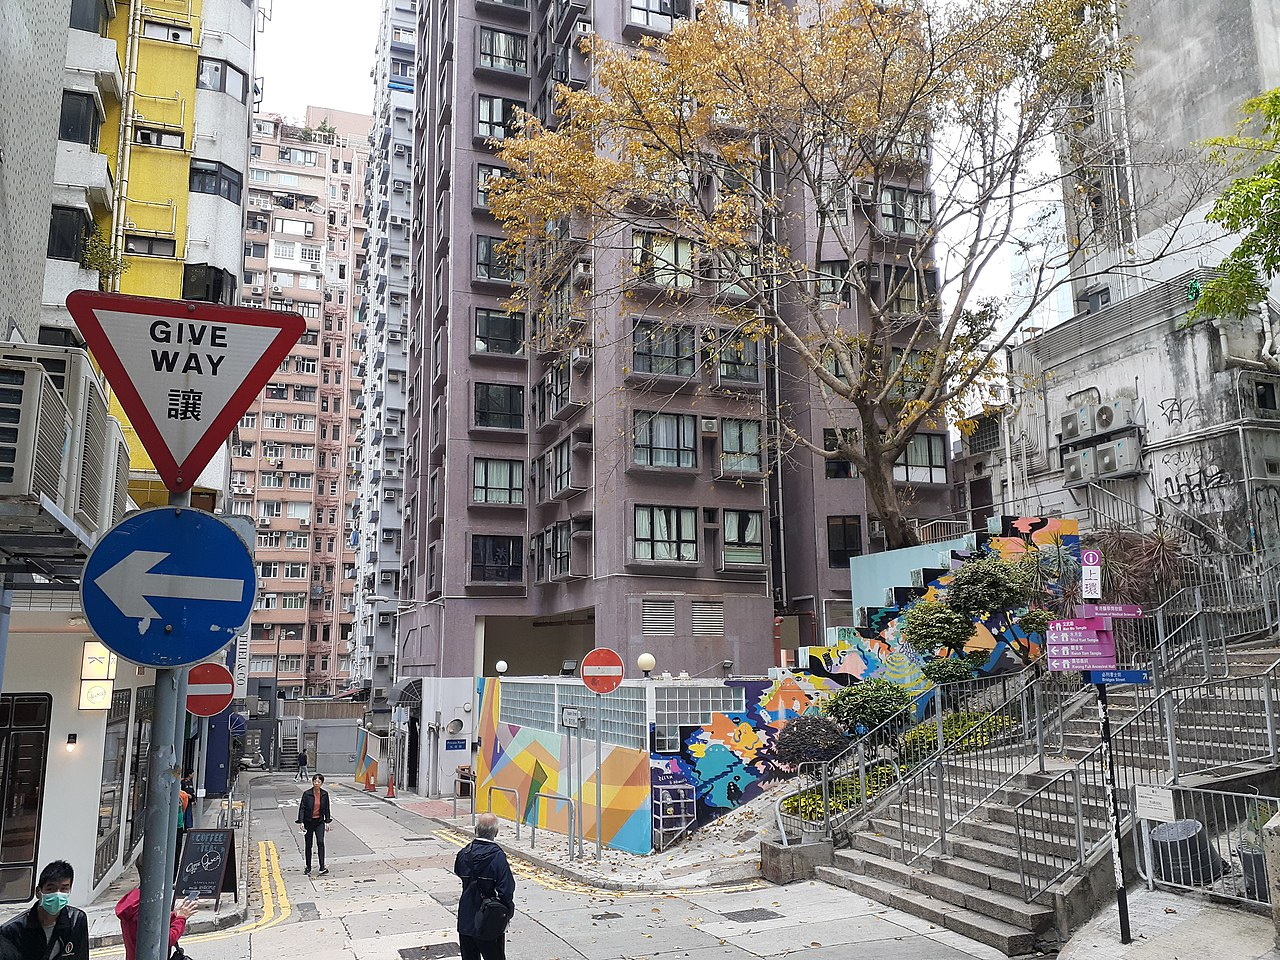Give Way: (57, 282, 310, 490)
No Enter: (180, 658, 239, 712), (580, 645, 625, 695)
Turn Left: (84, 505, 264, 662)
